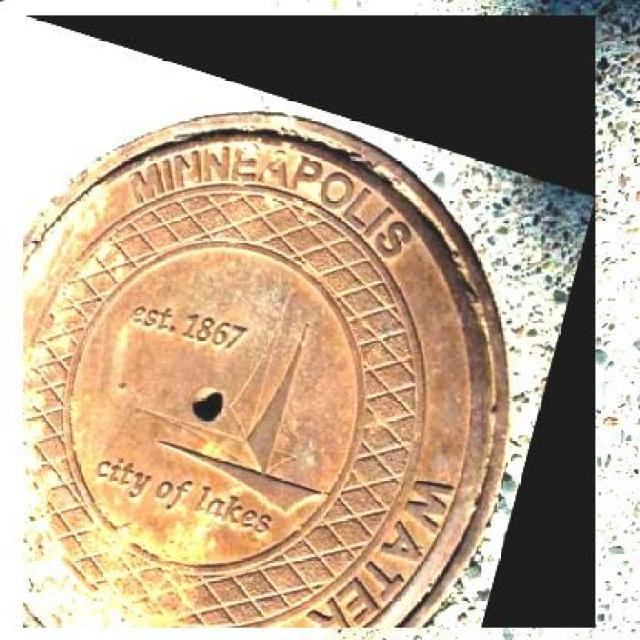Manhole: (22, 16, 596, 629)
